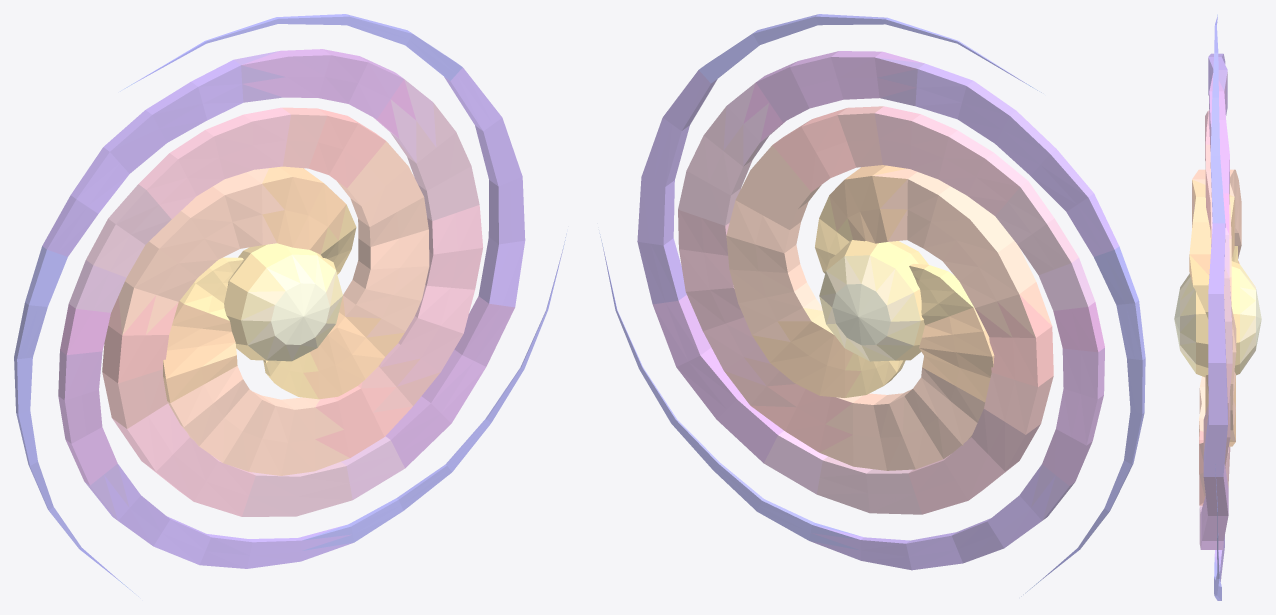
Rendered from galaxy-002.glb.
The picture shows the model from 3 angles, left to right: view 1: azimuth 30°, elevation 25°; view 2: azimuth 150°, elevation 25°; view 3: azimuth 270°, elevation 25°; orthographic projection. The views are drawn at different scales.
Parts seen in each view (by area): view 1: galaxy-002; view 2: galaxy-002; view 3: galaxy-002.
Part boxes in pixels (x1=…): galaxy-002: x1=14, y1=14, x2=566, y2=596; galaxy-002: x1=599, y1=14, x2=1145, y2=596; galaxy-002: x1=1174, y1=14, x2=1261, y2=600.
Bounding box in the file's own units: 126 × 120 × 18.48.
